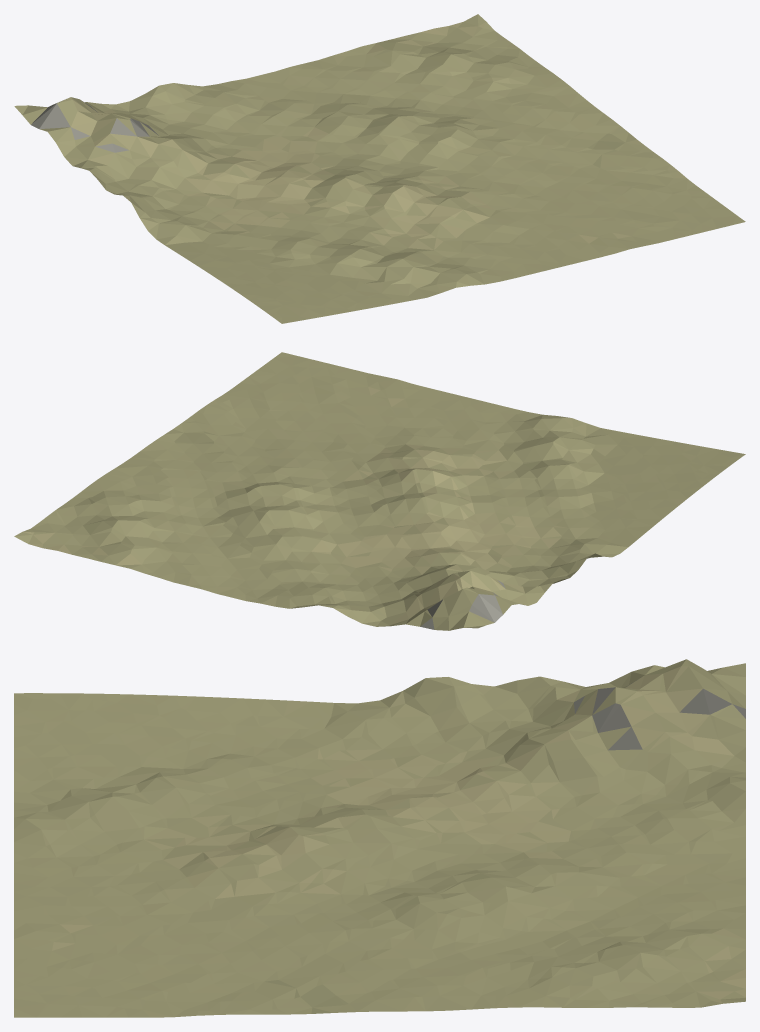
The model's file is Ground_0_-10.glb.
3 views of the same model, one above another, from view 1: azimuth 30°, elevation 25°; view 2: azimuth 150°, elevation 25°; view 3: azimuth 270°, elevation 25° (orthographic). The views are drawn at different scales.
Parts seen in each view (by area): view 1: Ground_0_-10; view 2: Ground_0_-10; view 3: Ground_0_-10.
Boxes of the visible parts, x1,y1,x2,y2 form: Ground_0_-10: [14, 14, 745, 323]; Ground_0_-10: [14, 352, 745, 630]; Ground_0_-10: [14, 659, 745, 1017].
Size of the model in its own units: 768 by 76.69 by 768.
